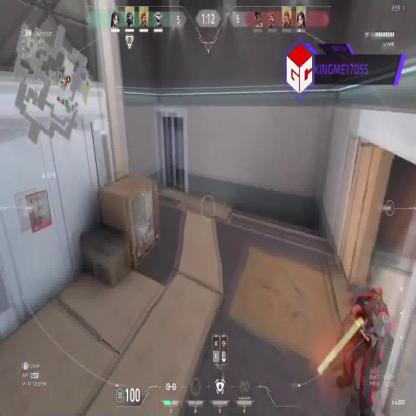enemy: (336, 276, 392, 416)
enemy_head: (370, 284, 382, 316)
